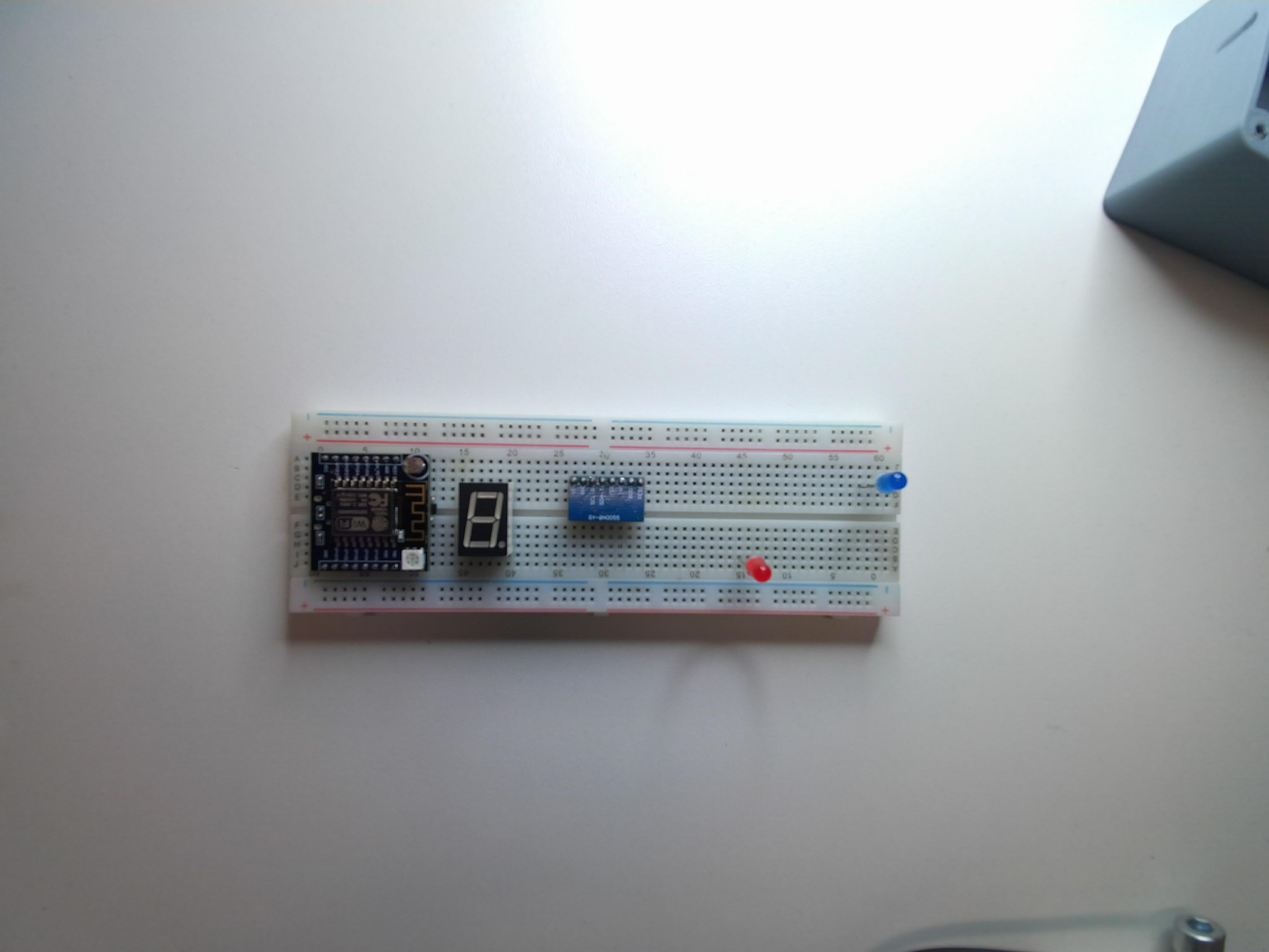base: (288, 408, 906, 627)
blue-board: (564, 473, 646, 526)
blue-led: (877, 472, 907, 495)
digit-board: (456, 479, 510, 567)
esp: (311, 451, 431, 575)
red-led: (746, 555, 771, 581)
